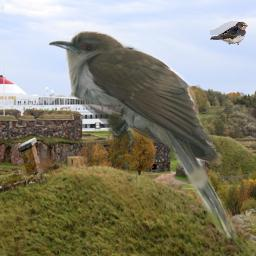Cuckoo: (49, 31, 238, 246)
Swallow: (210, 21, 248, 45)
